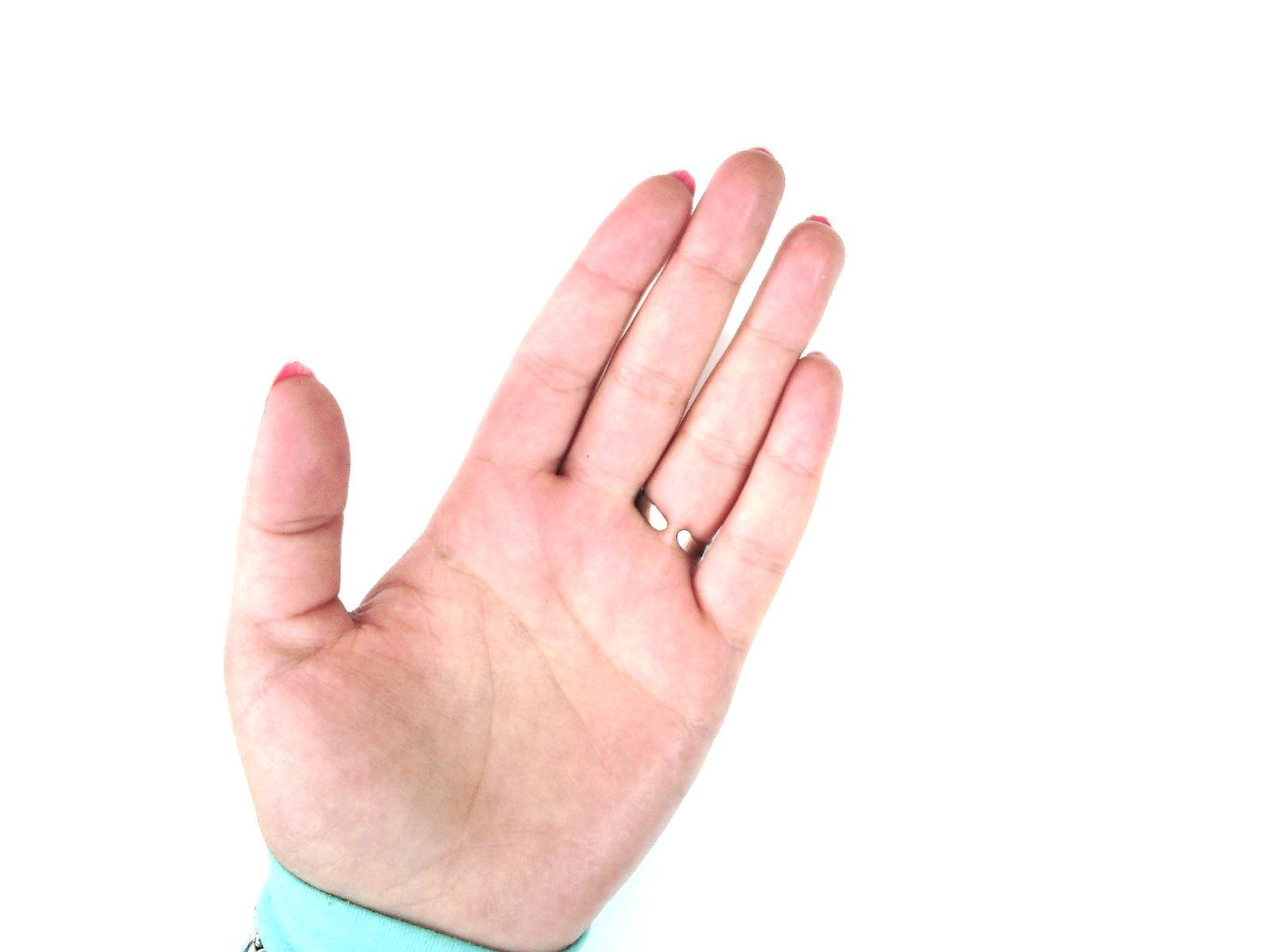open_palm: (221, 146, 850, 950)
